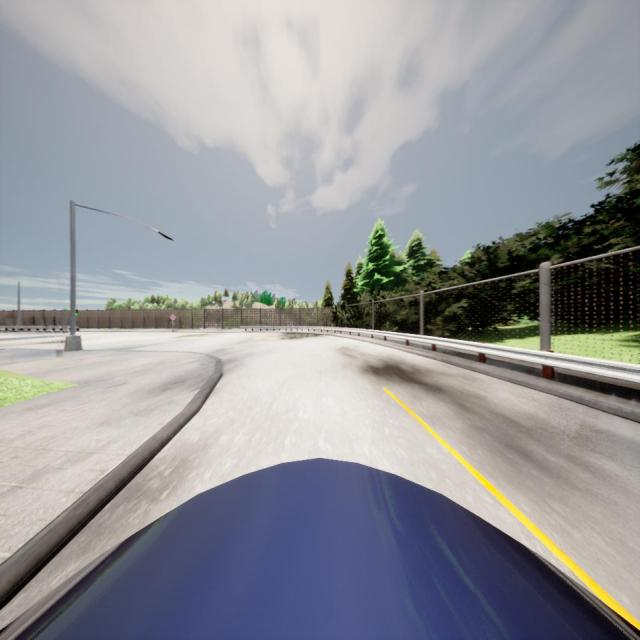Traffic_Signs: (168, 315, 176, 321)
Vehicle: (0, 457, 640, 639)
traffic_light: (74, 309, 78, 317)
